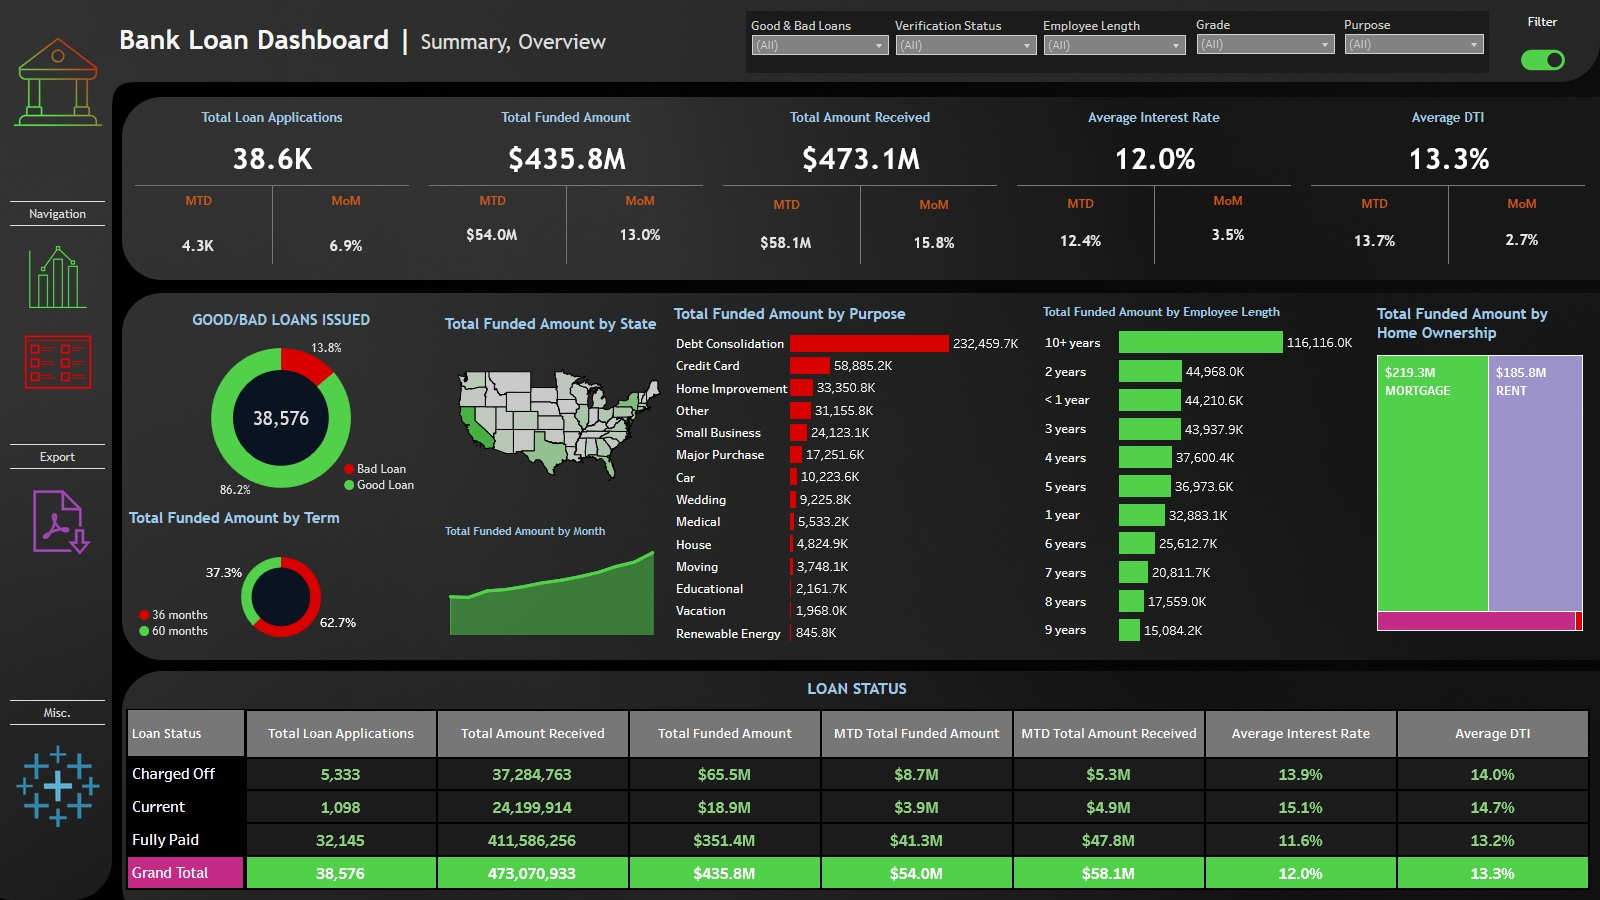

Layout of this report page (visuals, bound fields, positions):
{"tool":"tableau","page":{"name":"Summary, Overview","canvas":[1600,900],"ordinal":1},"visuals":[{"type":"image","param":"Image/Frame 1.png","box":[0,0,1600,900]},{"type":"blank","box":[0,0,115,32]},{"type":"text","box":[115,0,630,80]},{"type":"blank","box":[745,0,854.9,80]},{"type":"text","box":[1495,6,95,32]},{"type":"filter","title":"Good/Bad Loans Issued","param":"[federated.1vf9vyr181wz11152hhhw1rm8q7u].[Good & Bad Loans]","box":[746,11,148.6,62]},{"type":"filter","title":"Purpose","param":"[federated.1vf9vyr181wz11152hhhw1rm8q7u].[none:verification_status:nk]","box":[894.6,11,148.6,62]},{"type":"filter","title":"Emp Length","param":"[federated.1vf9vyr181wz11152hhhw1rm8q7u].[none:emp_length:nk]","box":[1043.2,11,148.6,62]},{"type":"filter","title":"Emp Length","param":"[federated.1vf9vyr181wz11152hhhw1rm8q7u].[none:grade:nk]","box":[1191.8,11,148.6,62]},{"type":"filter","title":"Purpose","param":"[federated.1vf9vyr181wz11152hhhw1rm8q7u].[none:purpose:nk]","box":[1340.4,11,148.6,62]},{"type":"image","param":"Image/main_icon.png","box":[0,32,115,100]},{"type":"dashboard-object","box":[1495,38,95,44]},{"type":"worksheet","title":"Total Loan Applications","mark":"Automatic","box":[125,100,294,85]},{"type":"worksheet","title":"Total Funded Amount","mark":"Automatic","box":[419,100,294,85]},{"type":"worksheet","title":"Total Amount Received","mark":"Automatic","box":[713,100,294,85]},{"type":"worksheet","title":"Average Interest Rate","mark":"Automatic","box":[1007,100,294,85]},{"type":"worksheet","title":"Average DTI","mark":"Automatic","box":[1301,100,294,85]},{"type":"blank","box":[0,132,115,69]},{"type":"blank","box":[125,185,294,1]},{"type":"blank","box":[419,185,294,1]},{"type":"blank","box":[713,185,294,1]},{"type":"blank","box":[1007,185,294,1]},{"type":"blank","box":[1301,185,294,1]},{"type":"text","box":[125,186,146.5,30]},{"type":"blank","box":[271.5,186,1,88]},{"type":"text","box":[272.5,186,146.5,30]},{"type":"text","box":[419,186,146.5,30]},{"type":"blank","box":[565.5,186,1,88]},{"type":"text","box":[566.5,186,146.5,30]},{"type":"text","box":[713,186,147,38]},{"type":"blank","box":[860,186,1,88]},{"type":"text","box":[861,186,146,38]},{"type":"text","box":[1007,186,147,36]},{"type":"blank","box":[1154,186,1,88]},{"type":"text","box":[1155,186,146,30]},{"type":"text","box":[1301,186,147,36]},{"type":"blank","box":[1448,186,1,88]},{"type":"text","box":[1449,186,146,35]},{"type":"blank","box":[0,201,115,1]},{"type":"text","box":[0,202,115,26]},{"type":"worksheet","title":"MTD Total Loan Applications","mark":"Automatic","box":[125,216,146.5,58]},{"type":"worksheet","title":"MoM Loan Applications","mark":"Automatic","box":[272.5,216,146.5,58]},{"type":"worksheet","title":"MTD Total Funded Amount","mark":"Automatic","box":[419,216,146.5,37]},{"type":"worksheet","title":"MoM Funded Amount","mark":"Automatic","box":[566.5,216,146.5,37]},{"type":"worksheet","title":"MoM Avg Interest Rate","mark":"Automatic","box":[1155,216,146,37]},{"type":"worksheet","title":"MoM Avg DTI","mark":"Automatic","box":[1449,221,146,37]},{"type":"worksheet","title":"MTD Avg Interest Rate","mark":"Automatic","box":[1007,222,147,37]},{"type":"worksheet","title":"MTD Avg DTI","mark":"Automatic","box":[1301,222,147,37]},{"type":"worksheet","title":"MTD Total Amount Received","mark":"Automatic","box":[713,224,147,37]},{"type":"worksheet","title":"MoM Amount Received","mark":"Automatic","box":[861,224,146,37]},{"type":"blank","box":[0,228,115,1]},{"type":"dashboard-object","box":[0,229,115,86]},{"type":"worksheet","title":"Good/Bad Loans Issued","mark":"Pie","rows":["Calculation_814870058694598682","Calculation_814870058694598682"],"box":[125,294,312,208]},{"type":"worksheet","title":"State","mark":"Multipolygon","box":[437,294,229,220]},{"type":"worksheet","title":"Purpose","mark":"Automatic","rows":["purpose"],"cols":["Calculation_1223008775176761347"],"box":[666,294,369,354]},{"type":"worksheet","title":"Emp Length","mark":"Automatic","rows":["emp_length"],"cols":["Calculation_1223008775176761347"],"box":[1035,294,333.9,354]},{"type":"worksheet","title":"Home Ownership","mark":"Automatic","box":[1368.9,294,221,354]},{"type":"dashboard-object","box":[0,315,115,100]},{"type":"blank","box":[0,415,115,32]},{"type":"blank","box":[0,447,115,1]},{"type":"text","box":[0,448,115,26]},{"type":"text","box":[344,452,100,51]},{"type":"blank","box":[0,474,115,1]},{"type":"dashboard-object","box":[0,475,115,91]},{"type":"worksheet","title":"Term","mark":"Pie","rows":["Calculation_1223008775182979077","Calculation_1223008775182979077"],"box":[125,502,312,156]},{"type":"worksheet","title":"Month","mark":"Area","rows":["Calculation_1223008775176761347","Calculation_1223008775176761347"],"cols":["issue_date"],"box":[437,514,229,125]},{"type":"blank","box":[0,566,115,32]},{"type":"blank","box":[0,598,115,108]},{"type":"text","box":[139,598,100,51]},{"type":"worksheet","title":"LOAN STATUS","mark":"Automatic","rows":["loan_status"],"box":[115,658,1484.9,242]},{"type":"blank","box":[0,706,115,1]},{"type":"text","box":[0,707,115,26]},{"type":"blank","box":[0,733,115,1]},{"type":"image","param":"Image/imageedit_4_8854838988.png","box":[0,734,115,108]},{"type":"blank","box":[0,842,115,58]}]}

Visuals, with their boxes in screenshot pixels (x1, y1, x2, y2), scaled from the page's 1600x900 canvas onto the 1600x900 screenshot:
image: <region>0, 0, 1599, 899</region>
blank: <region>0, 0, 115, 32</region>
text: <region>115, 0, 745, 80</region>
blank: <region>745, 0, 1599, 80</region>
text: <region>1495, 6, 1590, 38</region>
"Good/Bad Loans Issued" filter: <region>746, 11, 895, 73</region>
"Purpose" filter: <region>895, 11, 1043, 73</region>
"Emp Length" filter: <region>1043, 11, 1192, 73</region>
"Emp Length" filter: <region>1192, 11, 1340, 73</region>
"Purpose" filter: <region>1340, 11, 1489, 73</region>
image: <region>0, 32, 115, 132</region>
dashboard-object: <region>1495, 38, 1590, 82</region>
"Total Loan Applications" worksheet: <region>125, 100, 419, 185</region>
"Total Funded Amount" worksheet: <region>419, 100, 713, 185</region>
"Total Amount Received" worksheet: <region>713, 100, 1007, 185</region>
"Average Interest Rate" worksheet: <region>1007, 100, 1301, 185</region>
"Average DTI" worksheet: <region>1301, 100, 1595, 185</region>
blank: <region>0, 132, 115, 201</region>
blank: <region>125, 185, 419, 186</region>
blank: <region>419, 185, 713, 186</region>
blank: <region>713, 185, 1007, 186</region>
blank: <region>1007, 185, 1301, 186</region>
blank: <region>1301, 185, 1595, 186</region>
text: <region>125, 186, 272, 216</region>
text: <region>272, 186, 419, 216</region>
text: <region>419, 186, 566, 216</region>
text: <region>566, 186, 713, 216</region>
text: <region>713, 186, 860, 224</region>
blank: <region>860, 186, 861, 274</region>
text: <region>861, 186, 1007, 224</region>
text: <region>1007, 186, 1154, 222</region>
blank: <region>1154, 186, 1155, 274</region>
text: <region>1155, 186, 1301, 216</region>
text: <region>1301, 186, 1448, 222</region>
blank: <region>1448, 186, 1449, 274</region>
text: <region>1449, 186, 1595, 221</region>
blank: <region>0, 201, 115, 202</region>
text: <region>0, 202, 115, 228</region>
"MTD Total Loan Applications" worksheet: <region>125, 216, 272, 274</region>
"MoM Loan Applications" worksheet: <region>272, 216, 419, 274</region>
"MTD Total Funded Amount" worksheet: <region>419, 216, 566, 253</region>
"MoM Funded Amount" worksheet: <region>566, 216, 713, 253</region>
"MoM Avg Interest Rate" worksheet: <region>1155, 216, 1301, 253</region>
"MoM Avg DTI" worksheet: <region>1449, 221, 1595, 258</region>
"MTD Avg Interest Rate" worksheet: <region>1007, 222, 1154, 259</region>
"MTD Avg DTI" worksheet: <region>1301, 222, 1448, 259</region>
"MTD Total Amount Received" worksheet: <region>713, 224, 860, 261</region>
"MoM Amount Received" worksheet: <region>861, 224, 1007, 261</region>
blank: <region>0, 228, 115, 229</region>
dashboard-object: <region>0, 229, 115, 315</region>
"Good/Bad Loans Issued" worksheet (Pie marks): <region>125, 294, 437, 502</region>
"State" worksheet (Multipolygon marks): <region>437, 294, 666, 514</region>
"Purpose" worksheet: <region>666, 294, 1035, 648</region>
"Emp Length" worksheet: <region>1035, 294, 1369, 648</region>
"Home Ownership" worksheet: <region>1369, 294, 1590, 648</region>
dashboard-object: <region>0, 315, 115, 415</region>
blank: <region>0, 415, 115, 447</region>
blank: <region>0, 447, 115, 448</region>
text: <region>0, 448, 115, 474</region>
text: <region>344, 452, 444, 503</region>
blank: <region>0, 474, 115, 475</region>
dashboard-object: <region>0, 475, 115, 566</region>
"Term" worksheet (Pie marks): <region>125, 502, 437, 658</region>
"Month" worksheet (Area marks): <region>437, 514, 666, 639</region>
blank: <region>0, 566, 115, 598</region>
blank: <region>0, 598, 115, 706</region>
text: <region>139, 598, 239, 649</region>
"LOAN STATUS" worksheet: <region>115, 658, 1599, 899</region>
blank: <region>0, 706, 115, 707</region>
text: <region>0, 707, 115, 733</region>
blank: <region>0, 733, 115, 734</region>
image: <region>0, 734, 115, 842</region>
blank: <region>0, 842, 115, 899</region>
